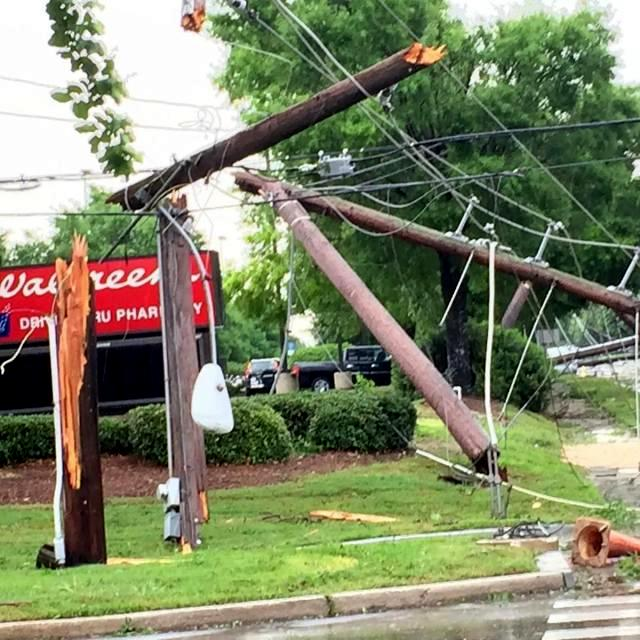Broken Pole: (102, 48, 441, 549), (264, 187, 504, 471), (234, 169, 640, 315)
